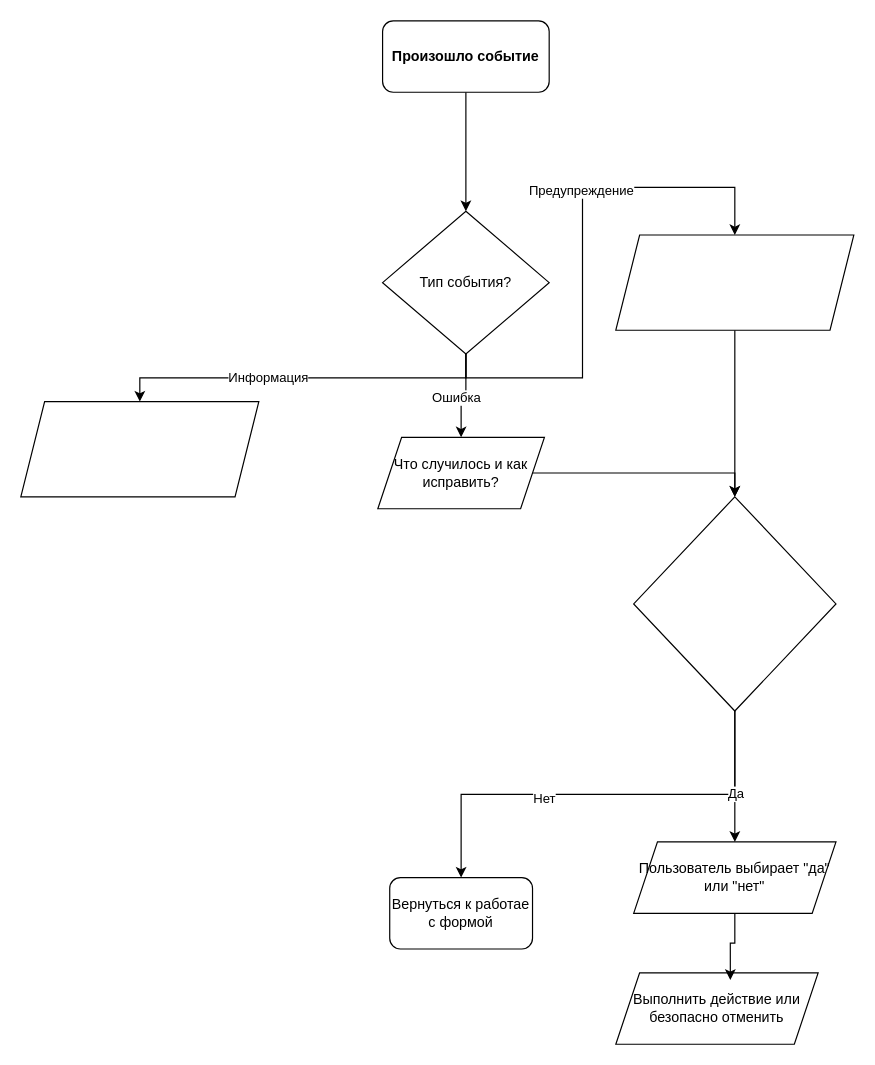
This 875x1065 diagram has some shape labels left out. The shapes that lost their labels are listed below. From the top down, each one's centre as x and y in pixels, then its label:
At (x=734, y=282): "Что произойдет при действии".
At (x=139, y=448): "Результат успешной операции".
At (x=734, y=603): "Нужно потверждение?".
